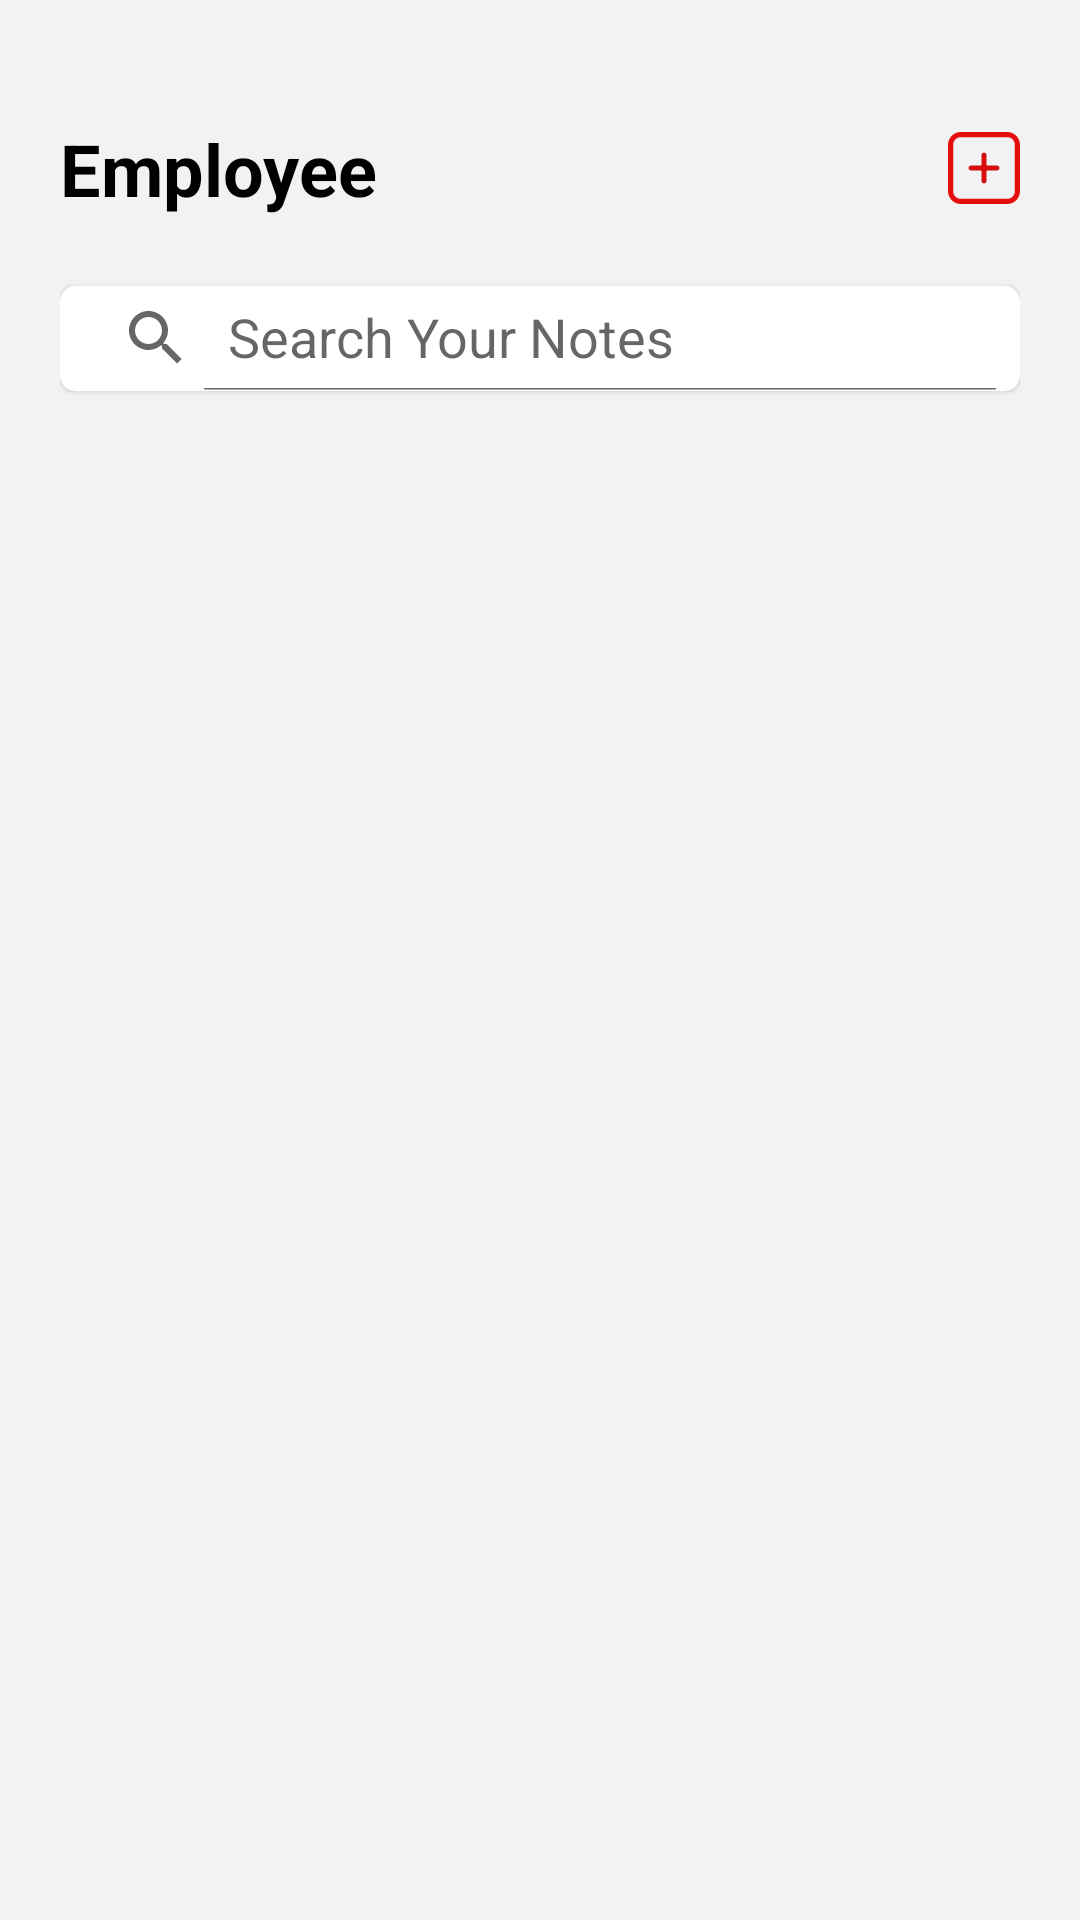

Icon click points for this 1080*1920 phone screenshot, format (x=x, y=y):
plus: (x=984, y=168)
